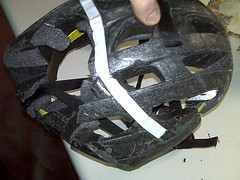helmet: (21, 13, 229, 155)
